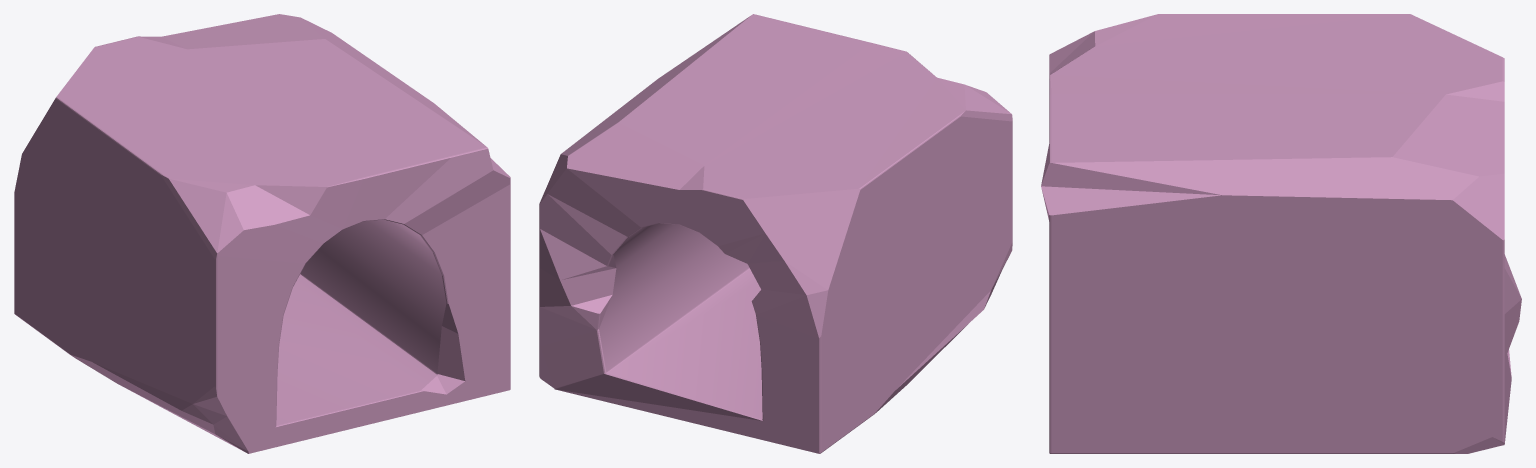
The model's file is kocia_chatka_srednia.fbx.
3 views of the same model, side by side, from view 1: azimuth 30°, elevation 25°; view 2: azimuth 150°, elevation 25°; view 3: azimuth 270°, elevation 25° (orthographic). The views are drawn at different scales.
Visible parts, largest first — view 1: kocia_chatka_srednia; view 2: kocia_chatka_srednia; view 3: kocia_chatka_srednia.
Boxes of the visible parts, x1=… form: kocia_chatka_srednia: x1=14, y1=14, x2=510, y2=453; kocia_chatka_srednia: x1=539, y1=14, x2=1012, y2=453; kocia_chatka_srednia: x1=1041, y1=14, x2=1521, y2=453.
Bounding box in the file's own units: 338 × 269 × 421.
